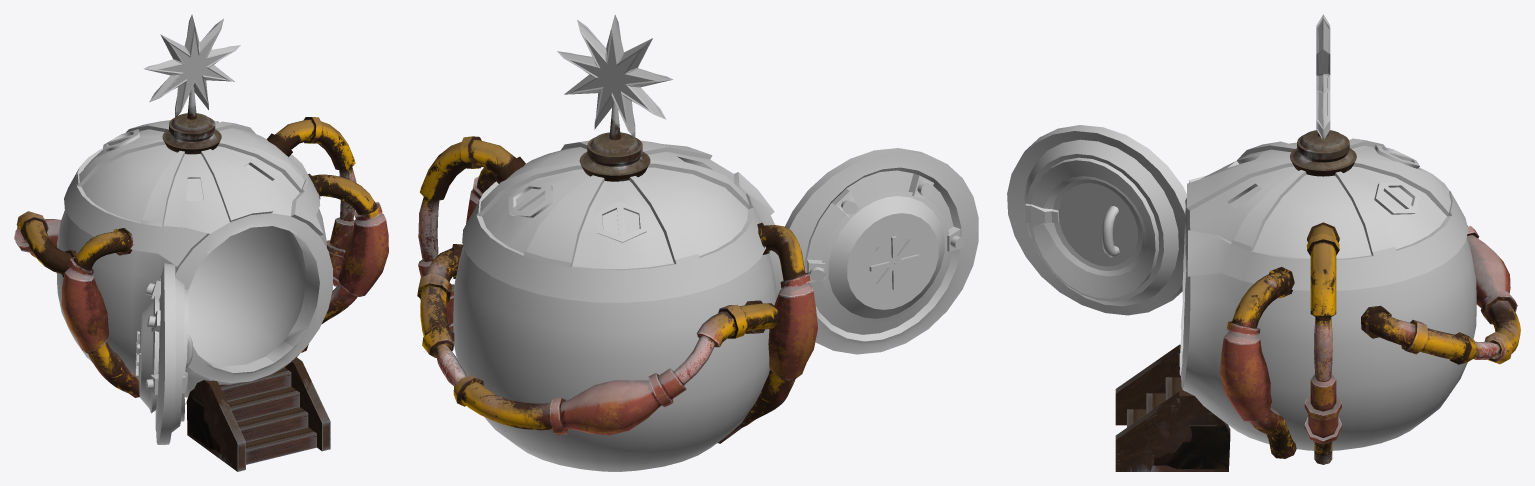
Rendered from TimeMachine.fbx.
The picture shows the model from 3 angles, left to right: view 1: azimuth 30°, elevation 25°; view 2: azimuth 150°, elevation 25°; view 3: azimuth 270°, elevation 25°; orthographic projection. The views are drawn at different scales.
Parts seen in each view (by area): view 1: Timemachine; view 2: Timemachine; view 3: Timemachine.
Boxes of the visible parts, bbox=[...] form: Timemachine: bbox=[14, 14, 388, 471]; Timemachine: bbox=[417, 14, 978, 471]; Timemachine: bbox=[1007, 14, 1520, 471].
Bounding box in the file's own units: 236 × 257 × 280.
